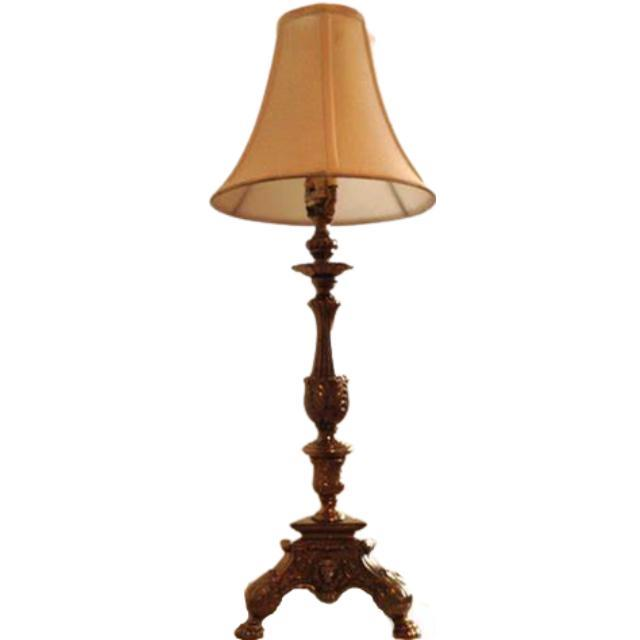lamp: (208, 3, 435, 640)
